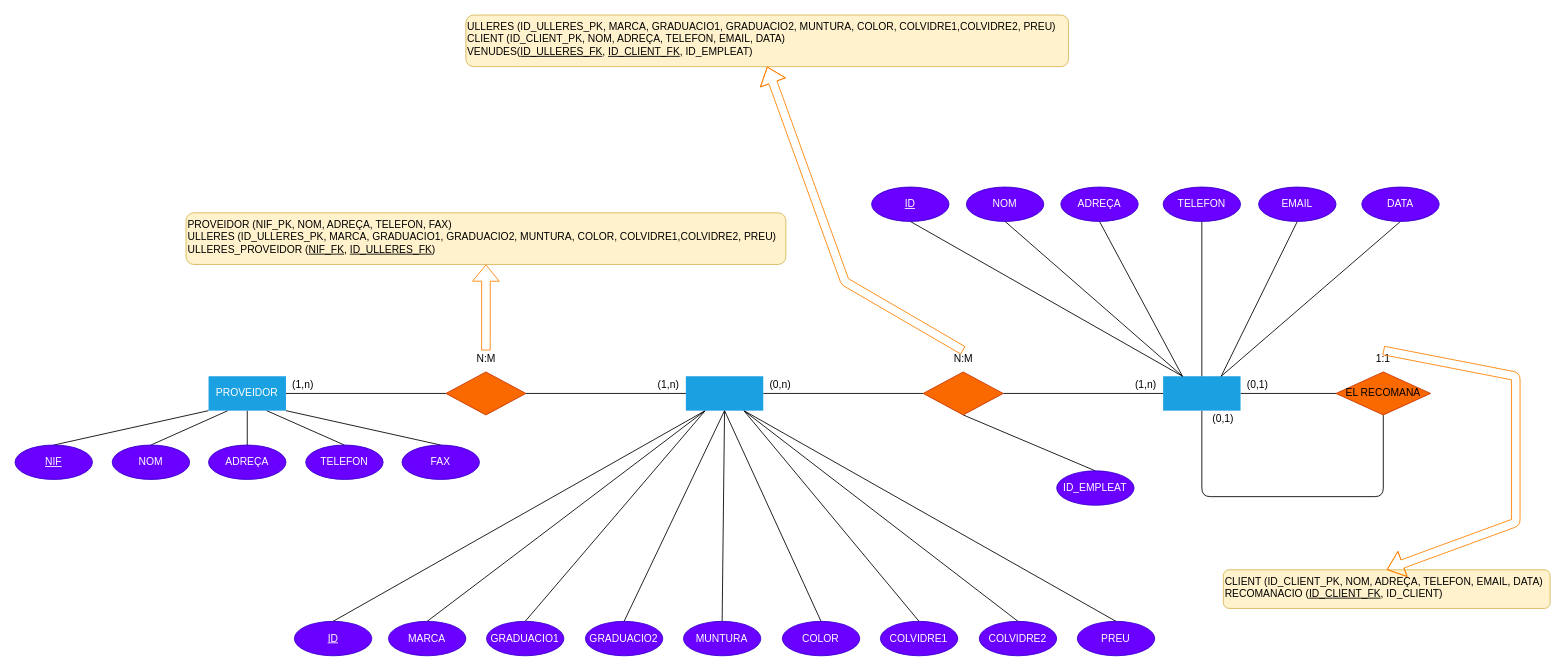
Some shapes in this 1565 by 671 pixel diagram are drawn without their labels. Each missing label, with the centre of its shape:
"CLIENT" goes at point (1201, 393).
"PROVEEIX" goes at point (485, 393).
"ULLERES" goes at point (724, 393).
"VENUDES" goes at point (962, 393).
